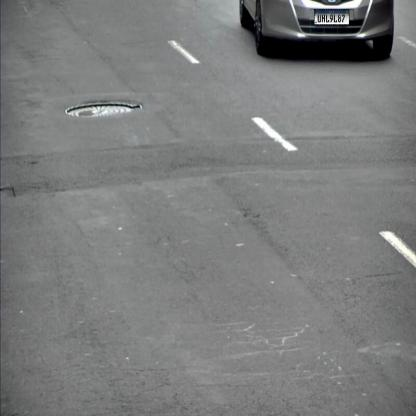PlacaM: (314, 9, 350, 25)
